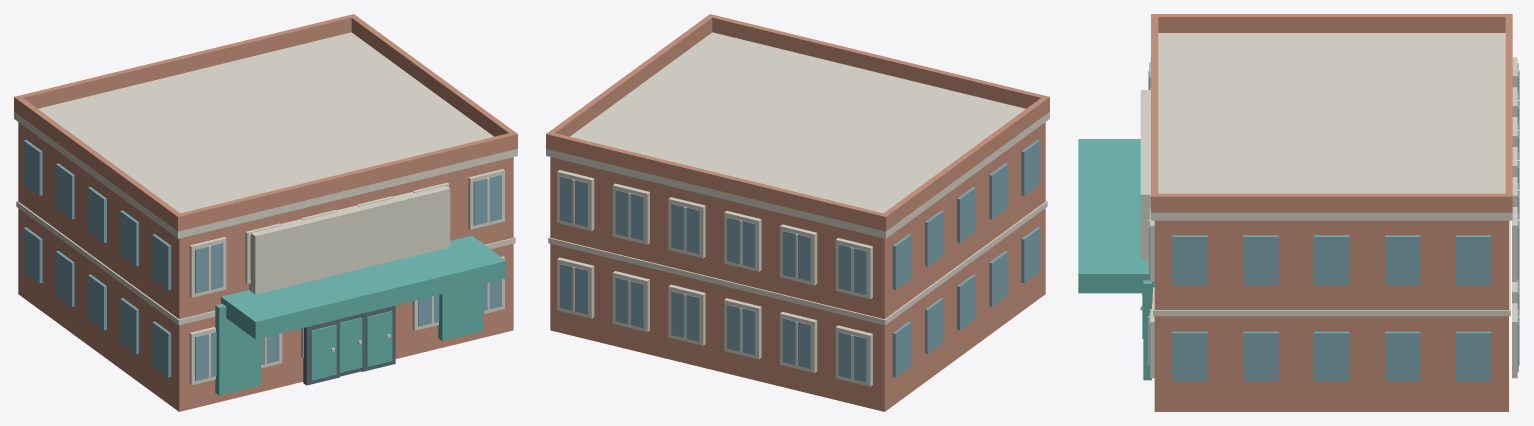
Rendered from vBar.glb.
3 views of the same model, side by side, from view 1: azimuth 30°, elevation 25°; view 2: azimuth 150°, elevation 25°; view 3: azimuth 270°, elevation 25° (orthographic). The views are drawn at different scales.
Visible parts, largest first — view 1: cinema-marquee-concrete, cinema-marquee-brick, cinema-marquee-accent, cinema-marquee-glass, cinema-marquee-dark; view 2: cinema-marquee-brick, cinema-marquee-concrete, cinema-marquee-glass; view 3: cinema-marquee-concrete, cinema-marquee-brick, cinema-marquee-glass, cinema-marquee-accent.
Boxes of the visible parts, x1,y1,x2,y2 form: cinema-marquee-concrete: (14, 32, 517, 385); cinema-marquee-brick: (14, 14, 517, 411); cinema-marquee-accent: (215, 235, 506, 395); cinema-marquee-glass: (23, 140, 501, 380); cinema-marquee-dark: (303, 305, 395, 385); cinema-marquee-brick: (546, 14, 1049, 411); cinema-marquee-concrete: (546, 32, 1049, 386); cinema-marquee-glass: (560, 140, 1040, 382); cinema-marquee-concrete: (1140, 33, 1519, 378); cinema-marquee-brick: (1151, 14, 1512, 411); cinema-marquee-glass: (1149, 63, 1518, 381); cinema-marquee-accent: (1078, 139, 1154, 380).
Size of the model in its own units: 12.2 by 6.75 by 12.45.
